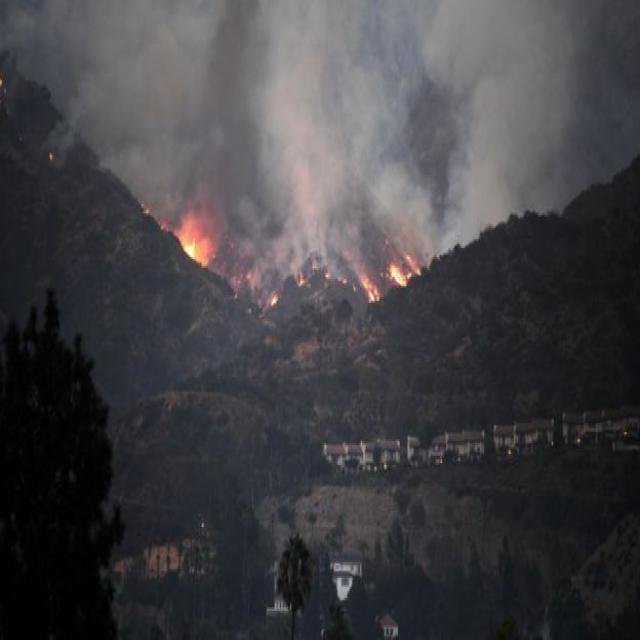Fire: (364, 250, 422, 306), (172, 210, 218, 274)
